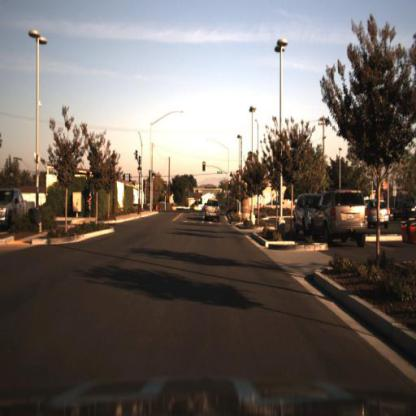car: (311, 185, 370, 247), (1, 187, 37, 236), (292, 193, 323, 241), (205, 198, 222, 222)
trafficLight-Red: (226, 176, 233, 188), (238, 166, 242, 182), (202, 162, 207, 174), (163, 180, 168, 189)
